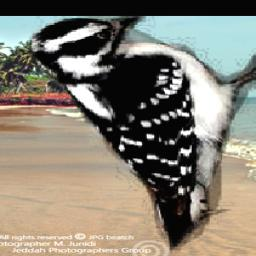Woodpecker: (29, 16, 256, 254)
